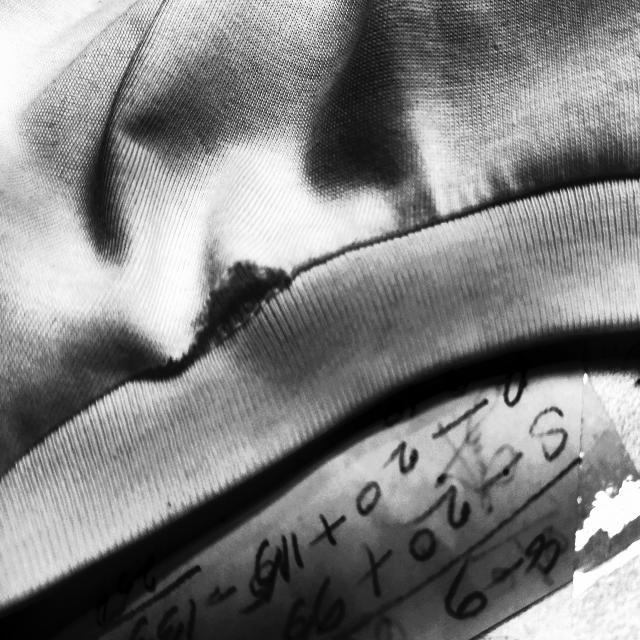Hole: (136, 244, 302, 381)
